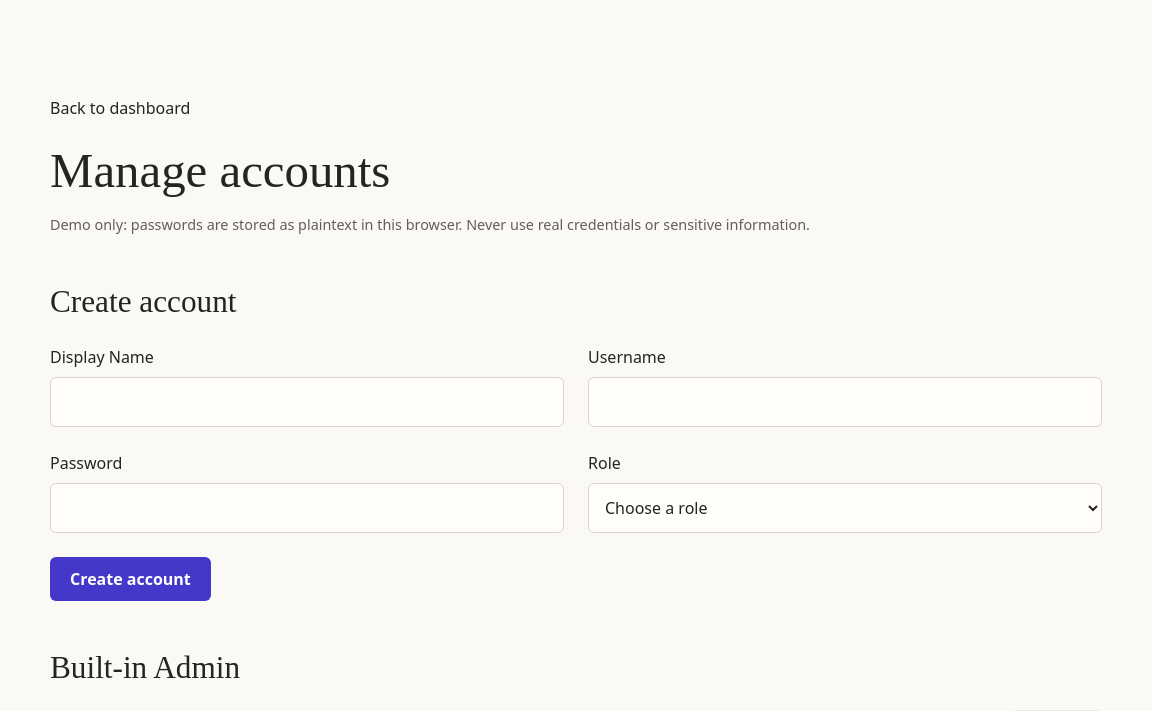
Test: UserManagement › creates user with exact values UUID/time, re-reading before and after saving
The image size is (1152, 711).
Type "New account" into the field labelled "Display Name" at x=307, y=402, box [50,377,564,427]
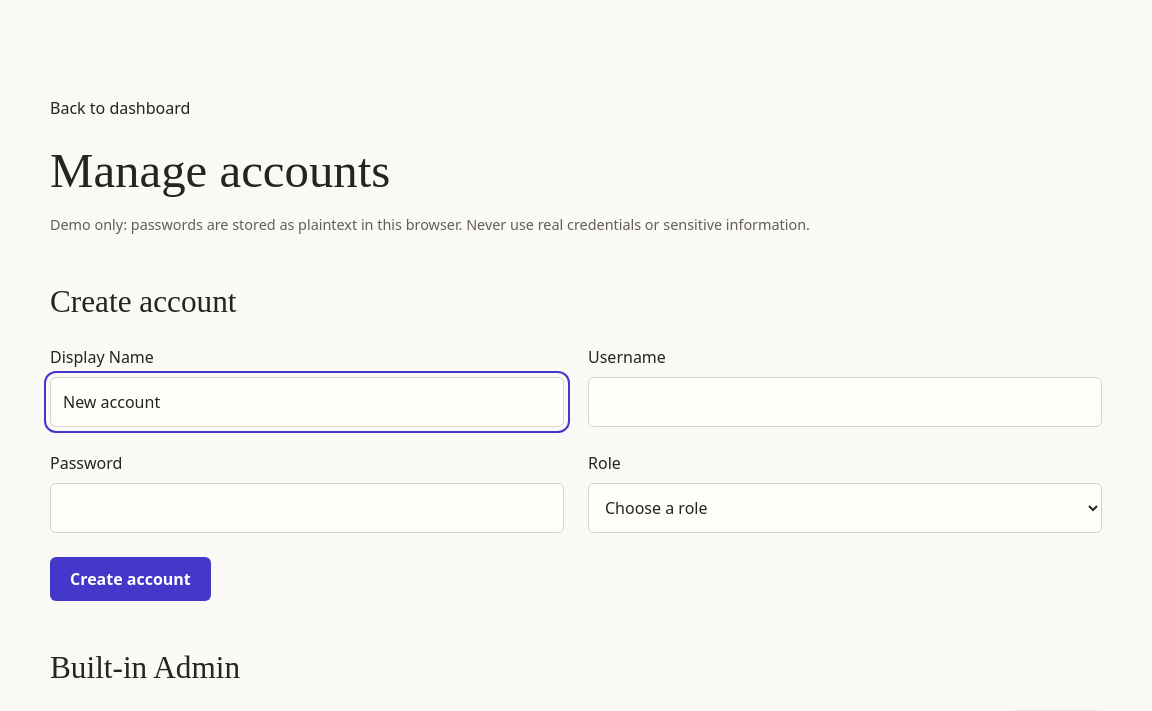
Type "new" into the field labelled "Username" at x=845, y=402, box [588,377,1102,427]
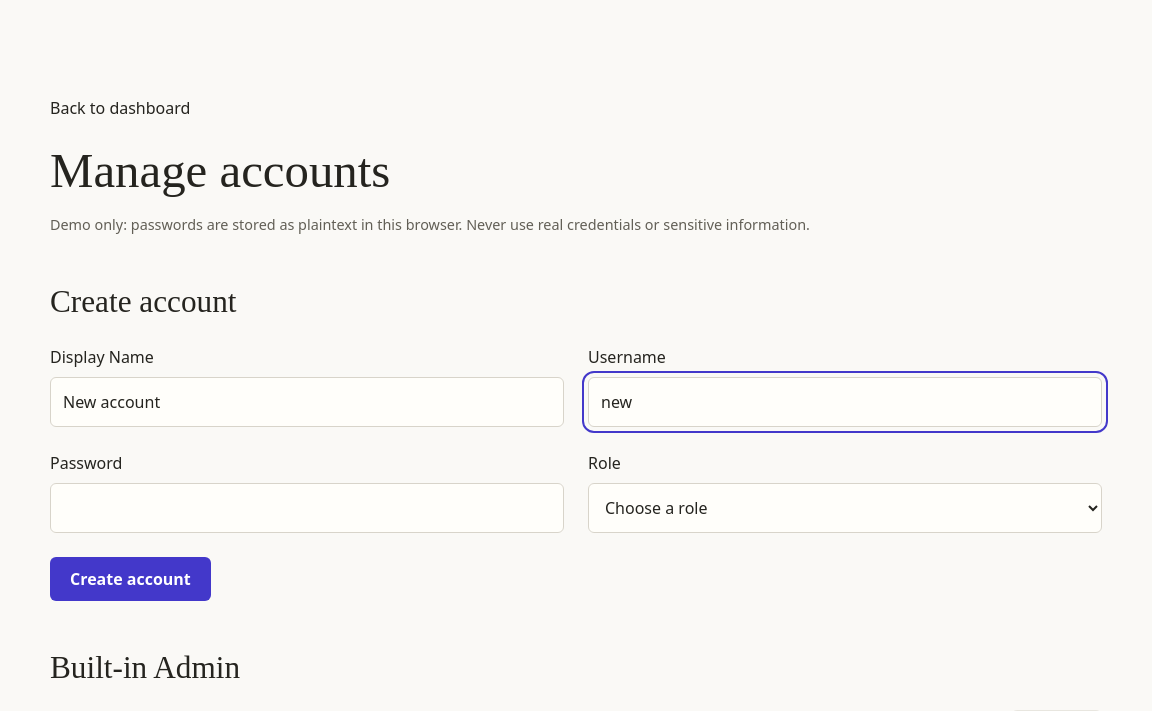
Type "demo" into the password field labelled "Password" at x=307, y=508, box [50,483,564,533]
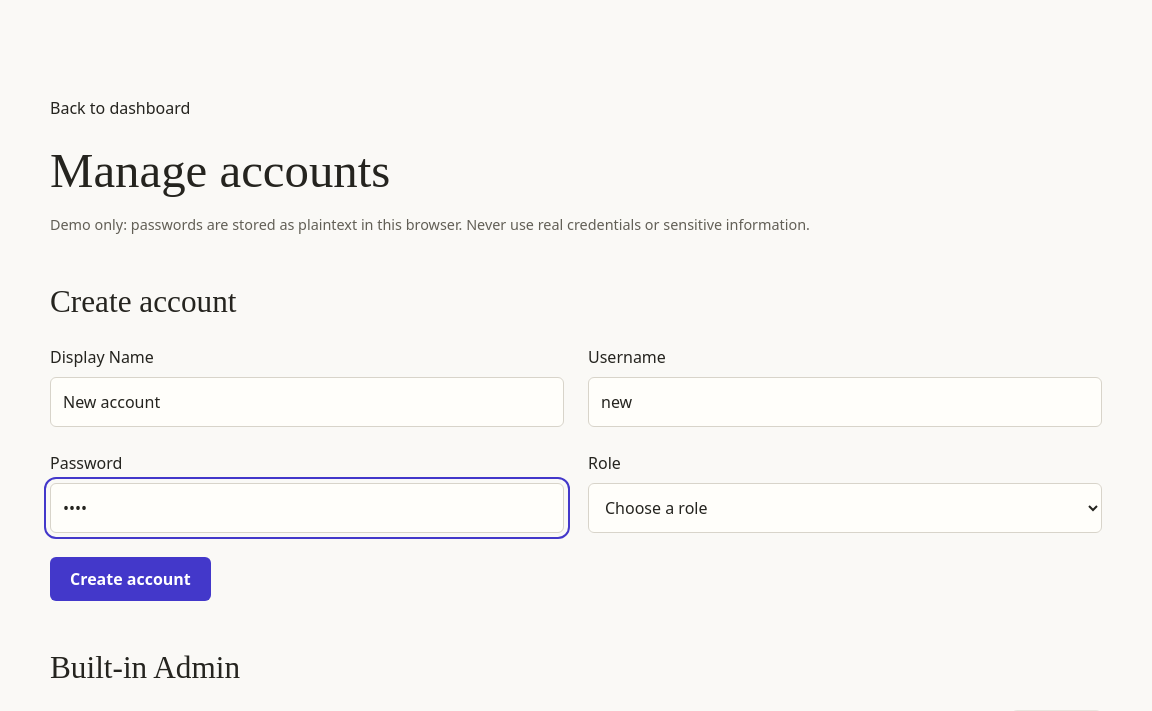
Select "User" in the dropdown labelled "Role" at x=845, y=508, box [588,483,1102,533]
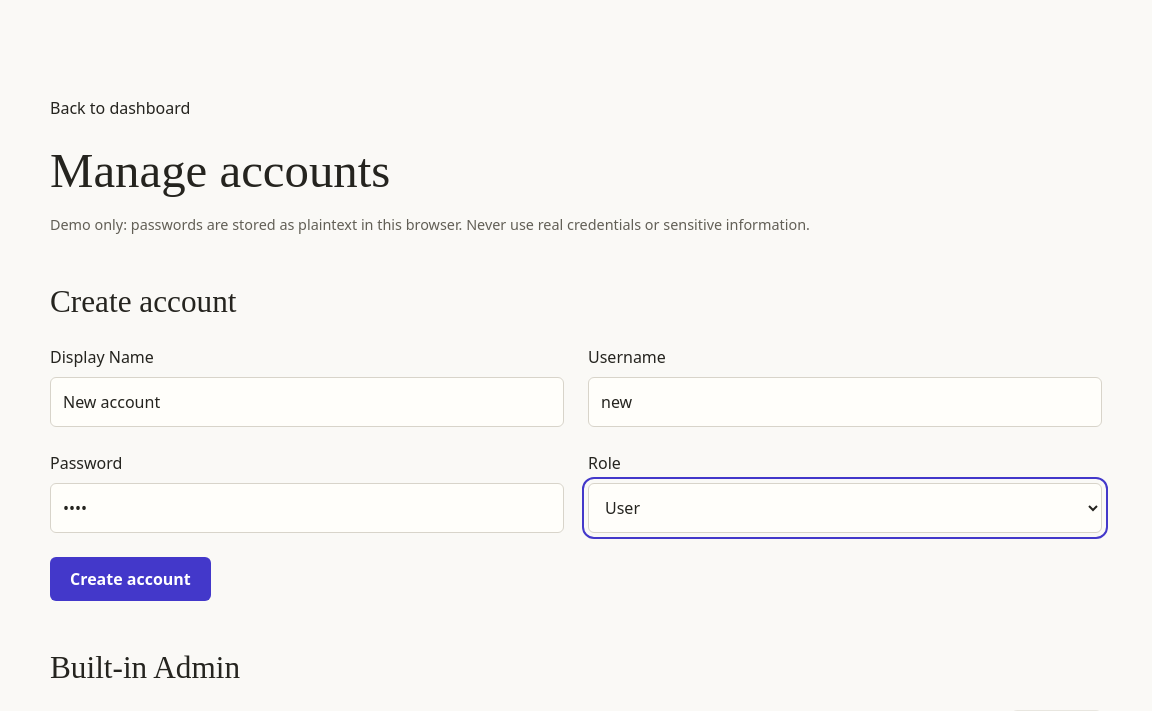
Click the button "Create account" at x=130, y=579, box [50,557,211,601]
(page scrolled)
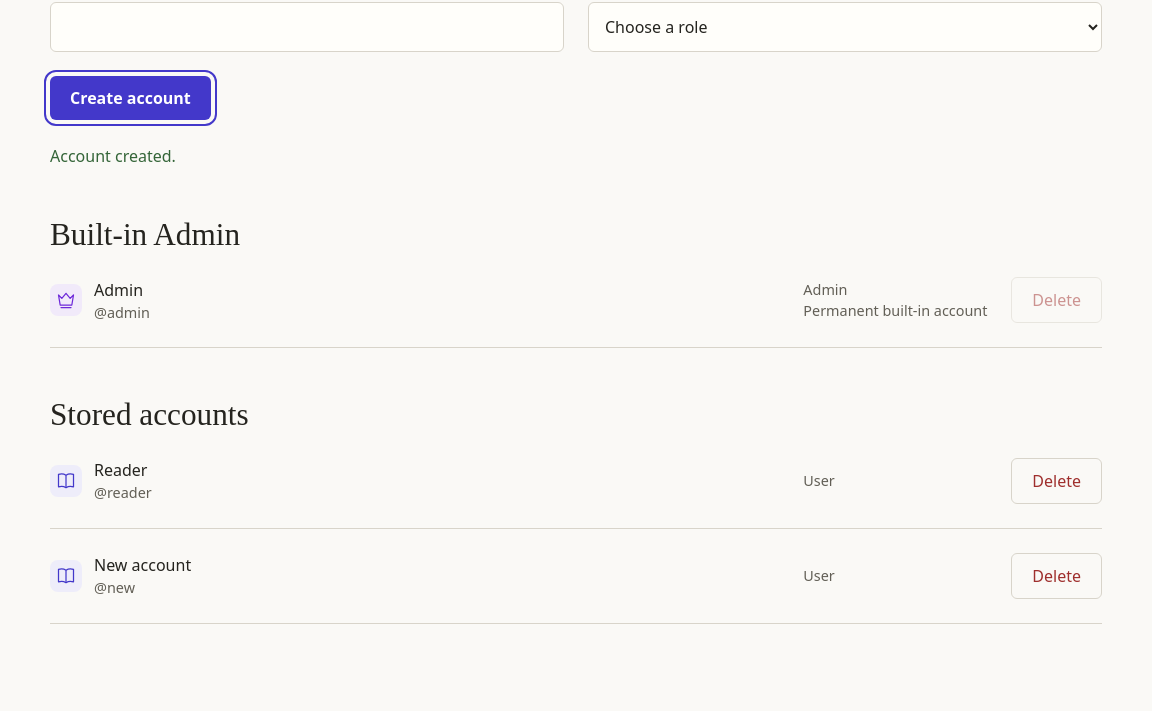
Check: the message reads "Account created.", box [50,145,176,167]
Check: the text "Reader" is shown, box [94,458,152,482]
Check: the list item with aria-label "Account new" is shown, box [50,529,1102,624]
